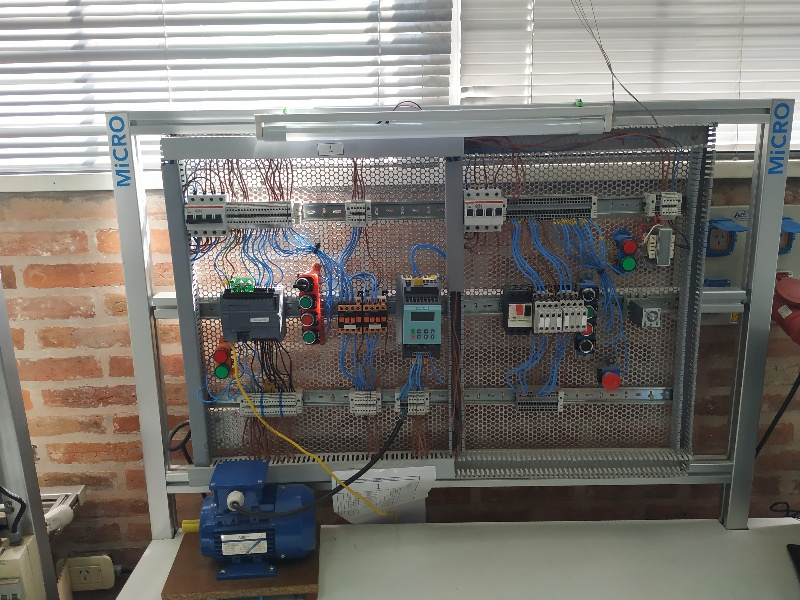Tablero 1: (161, 140, 698, 474)
